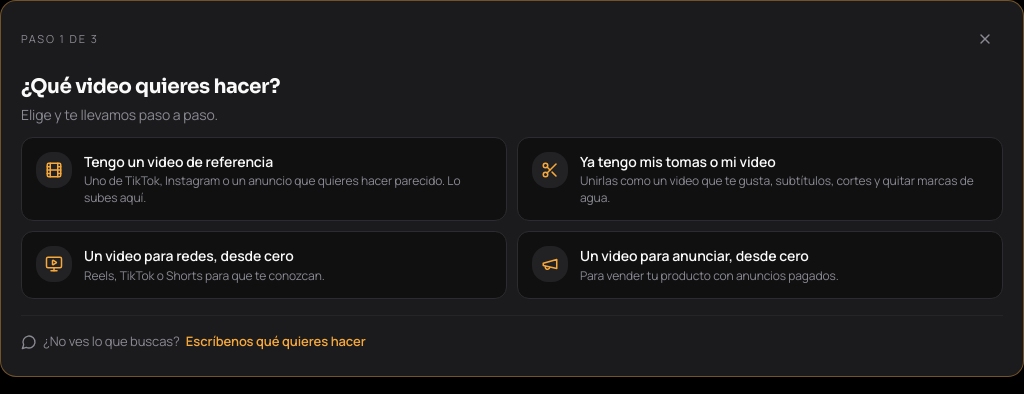
Test: Guía «¿Qué video quieres hacer?» › caso Cindy desde el primer paso: «Tengo un video de referencia» → lo sube → unirlo con sus tomas
Later steps or results of the test are not shown.
What coordinates should you click on to do the following:
click the button "Tengo un video de referencia"
I would click on:
 (264, 179)
Its box is [21, 137, 507, 221].
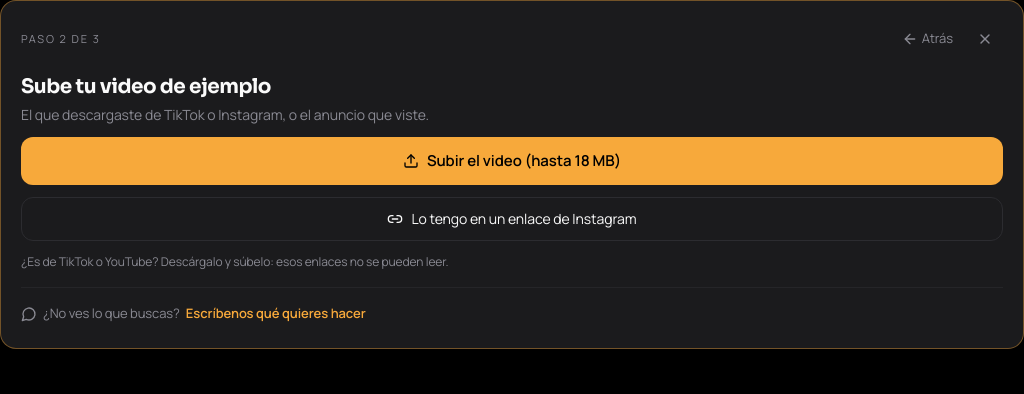
Check: the heading "Sube tu video de ejemplo" is shown, box [21, 74, 271, 99]
Check: the text "Paso 2 de 3" is shown, box [21, 31, 101, 47]
